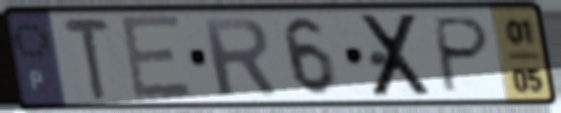6: (281, 14, 341, 99)
E: (115, 13, 197, 104)
P: (432, 14, 494, 96)
R: (198, 15, 281, 99)
T: (59, 15, 115, 102)
X: (358, 11, 437, 101)
